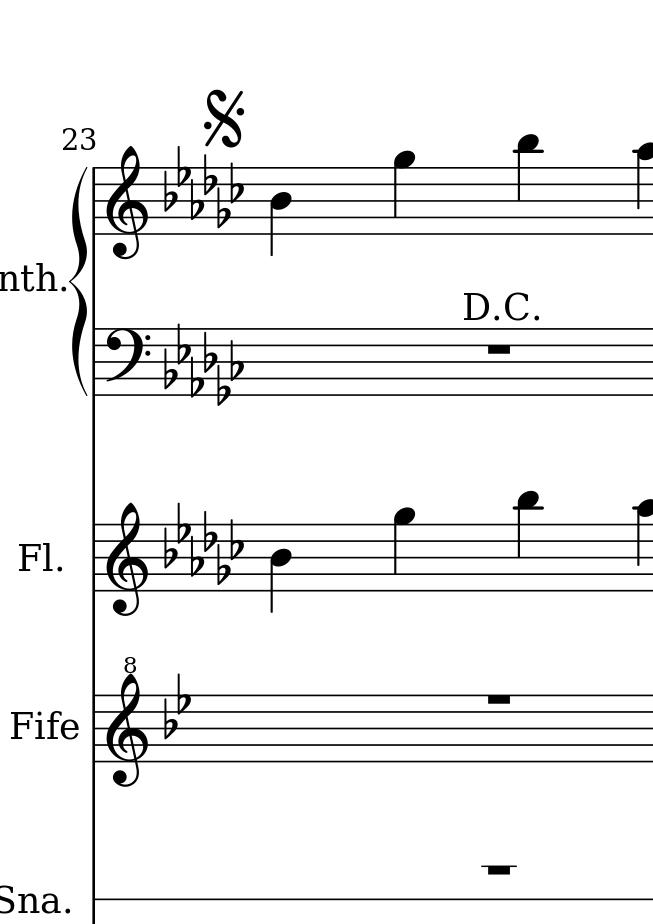2: (60, 127, 81, 151)
3: (78, 126, 98, 152)
4_11: (514, 487, 542, 595)
4_4: (269, 523, 294, 614), (268, 165, 292, 255)
4_9: (392, 507, 415, 592), (392, 150, 415, 234)
8_11: (515, 131, 541, 236)
B_F: (160, 672, 193, 738)
Brace: (68, 163, 90, 397)
DC: (462, 291, 541, 323)
Fclef: (102, 325, 149, 397)
G_F: (163, 322, 245, 407), (163, 500, 244, 585), (163, 147, 245, 227)
Gclef: (103, 140, 150, 265), (104, 496, 149, 622)
High_Gclef: (106, 656, 151, 790)
Rests1: (482, 862, 514, 880), (484, 340, 514, 357), (483, 692, 514, 707)
Segno: (198, 85, 244, 148)
Single_barline: (89, 167, 102, 235), (89, 328, 102, 393), (89, 523, 101, 593), (88, 695, 100, 762)
